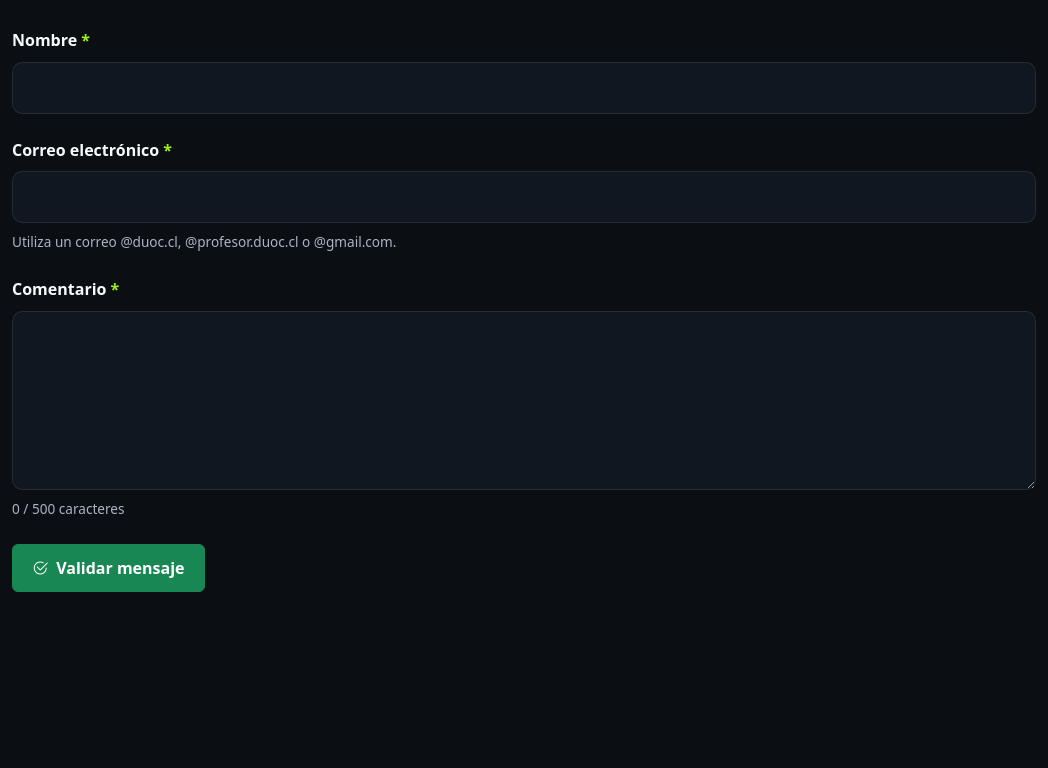
Test: ContactForm › bloquea datos vacíos, anuncia errores y enfoca el primero
Step 1. Click the button "Validar mensaje" → point(108, 568), box [12,544,205,592]
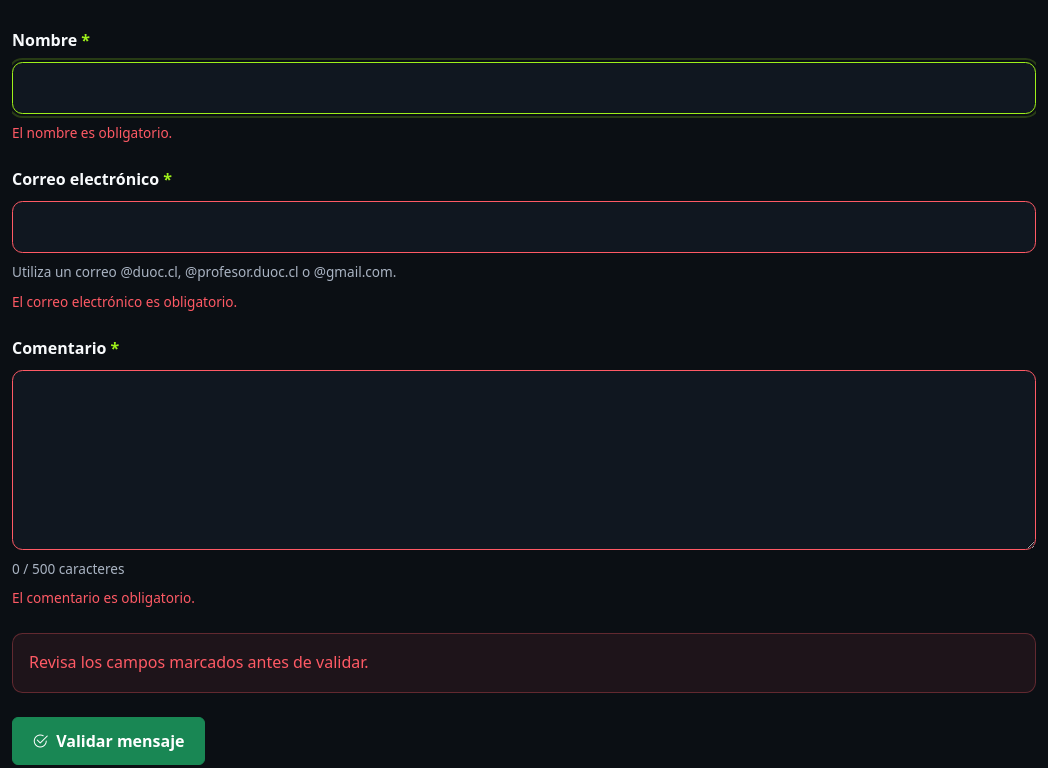
Check: the message shows "Revisa los campos", box [29,651,369,673]
